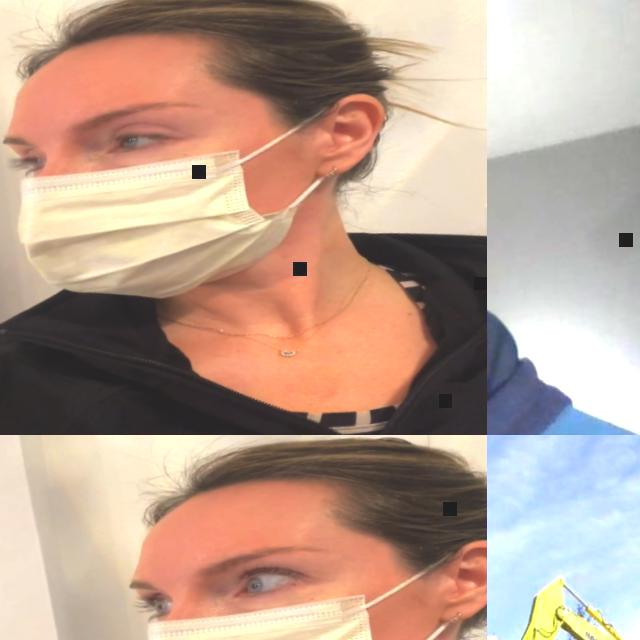machinery: (487, 549, 640, 640)
mask: (4, 104, 352, 317), (126, 543, 480, 640)
no_helmet: (133, 435, 487, 561), (0, 0, 381, 112)
no_vest: (0, 242, 487, 435)
person: (0, 0, 487, 435), (0, 435, 487, 640), (487, 0, 640, 435)
